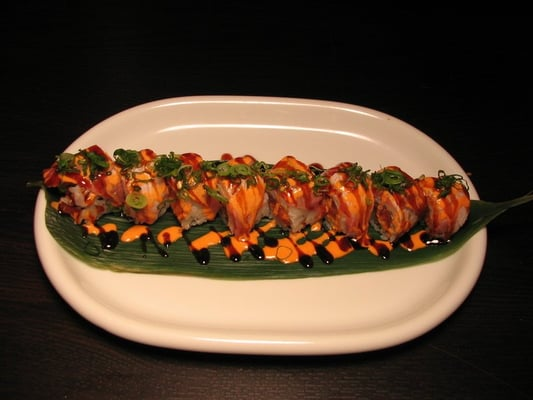curry: (4, 1, 525, 399)
pizza: (120, 225, 150, 243)
